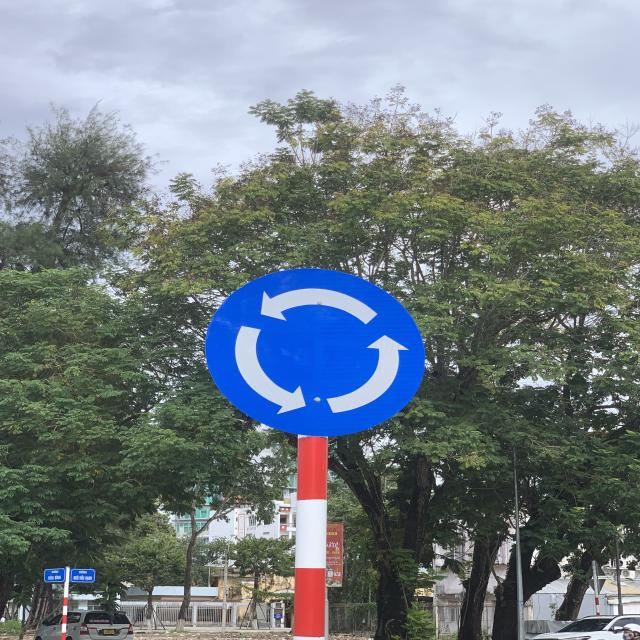Xe_Bus: (199, 267, 426, 436)
